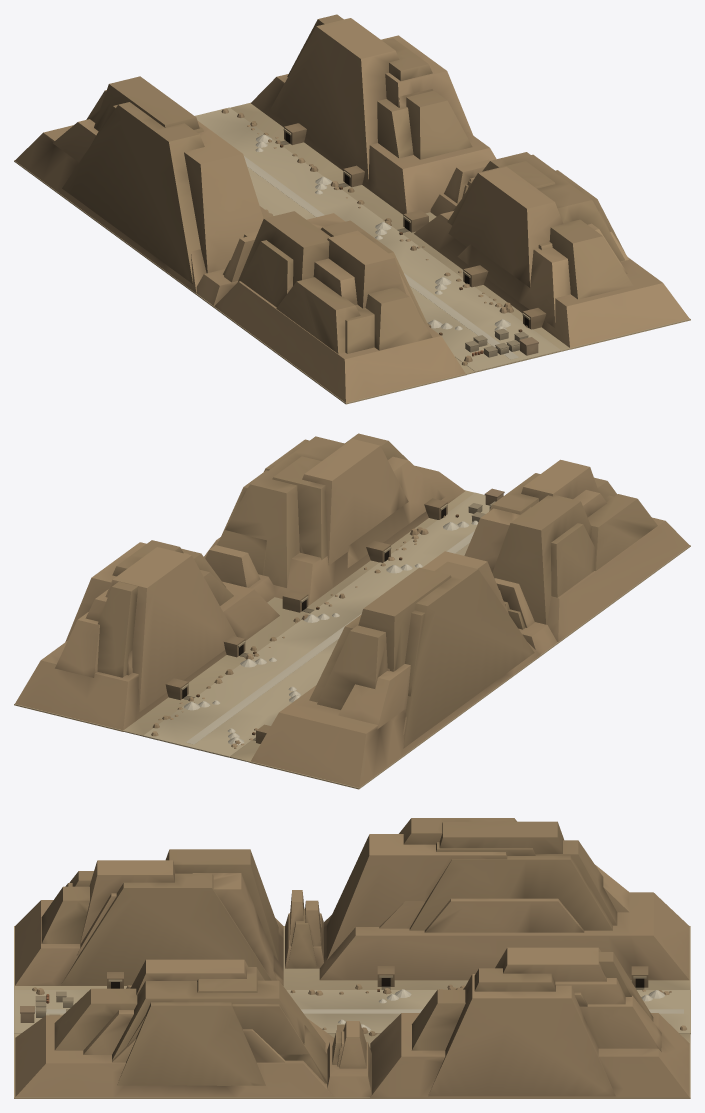
The model's file is valley-of-the-kings.glb.
The picture shows the model from 3 angles, top to bottom: view 1: azimuth 30°, elevation 25°; view 2: azimuth 150°, elevation 25°; view 3: azimuth 270°, elevation 25°; orthographic projection.
Visible parts, largest first — view 1: p1_rocks, p0_ground, p2_tombs, p3_huts; view 2: p1_rocks, p0_ground, p2_tombs; view 3: p1_rocks, p0_ground, p2_tombs, p3_huts.
Boxes of the visible parts, <box> form: p1_rocks: <box>14,14,690,404</box>; p0_ground: <box>14,102,690,404</box>; p2_tombs: <box>253,123,546,335</box>; p3_huts: <box>465,328,538,357</box>; p1_rocks: <box>14,433,690,789</box>; p0_ground: <box>14,490,690,788</box>; p2_tombs: <box>165,498,478,745</box>; p1_rocks: <box>14,818,690,1098</box>; p0_ground: <box>14,926,690,1098</box>; p2_tombs: <box>107,966,665,1032</box>; p3_huts: <box>20,991,73,1022</box>.
Size of the model in its own units: 120 by 39.26 by 200.
